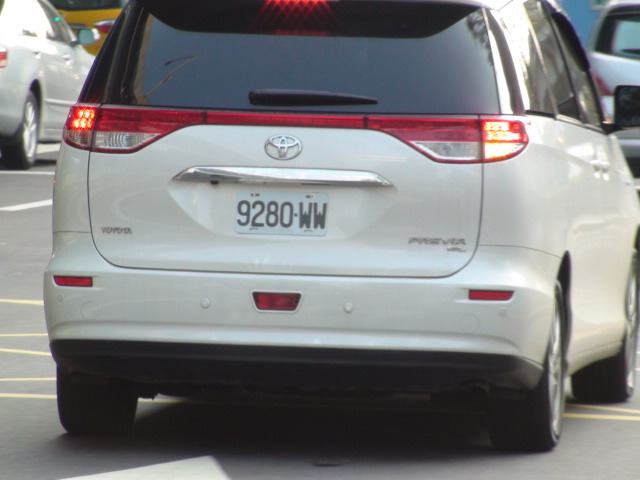plate: (233, 192, 329, 236)
